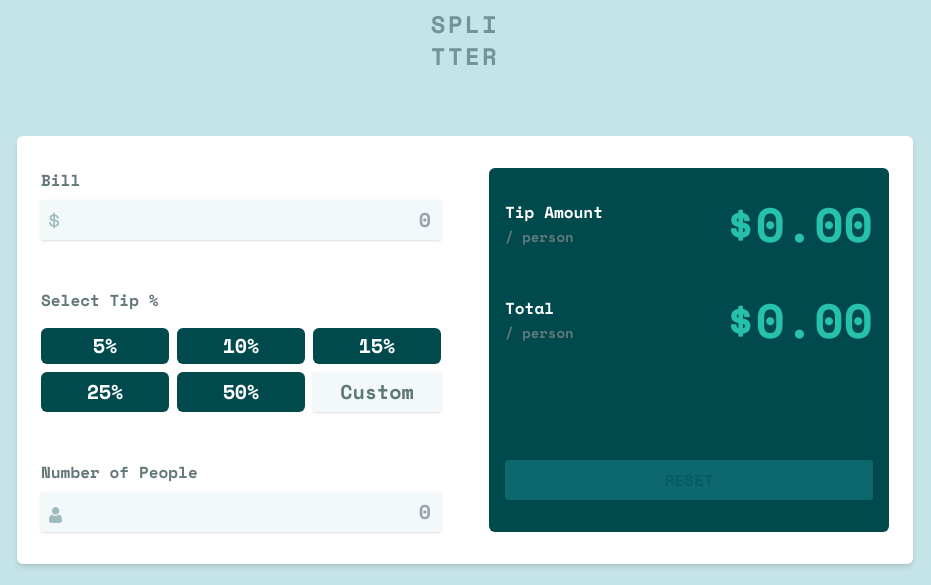
Test: Calculator › Create a new tip and reset the values
Expected: the button with test id "resetBtn" is disabled, x1=505 y1=460 x2=873 y2=500
Step 1. Type "142.55" into the number field with test id "bill" → [241, 220], box x1=41 y1=200 x2=441 y2=240
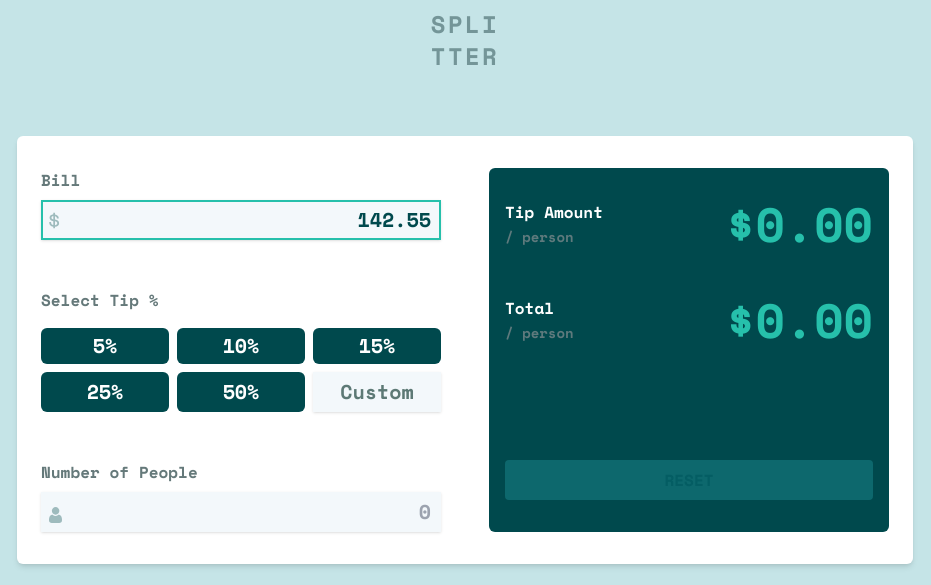
Step 2. Click the radio button with test id "15" → [377, 346], box x1=313 y1=328 x2=441 y2=364
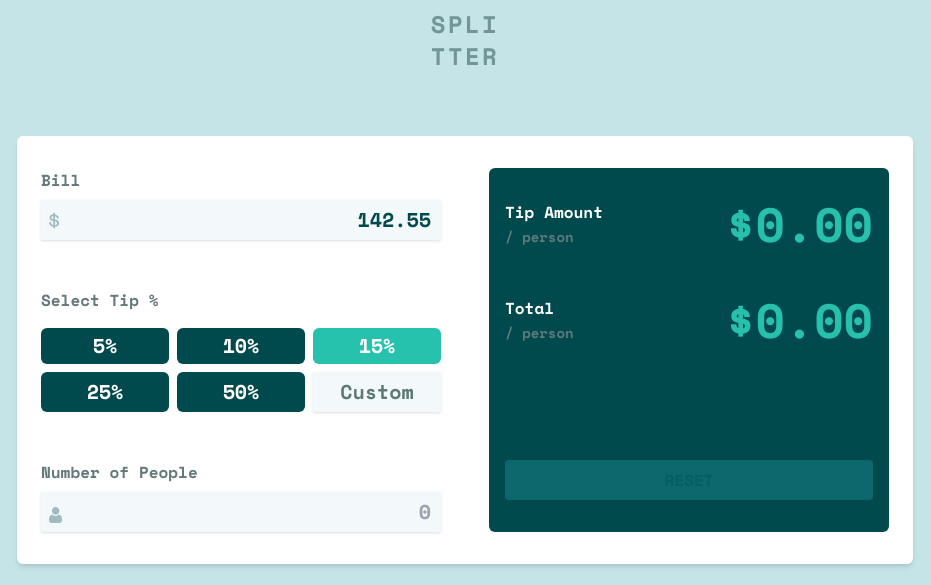
Step 3. Type "5" into the number field with test id "people" → [241, 512], box x1=41 y1=492 x2=441 y2=532
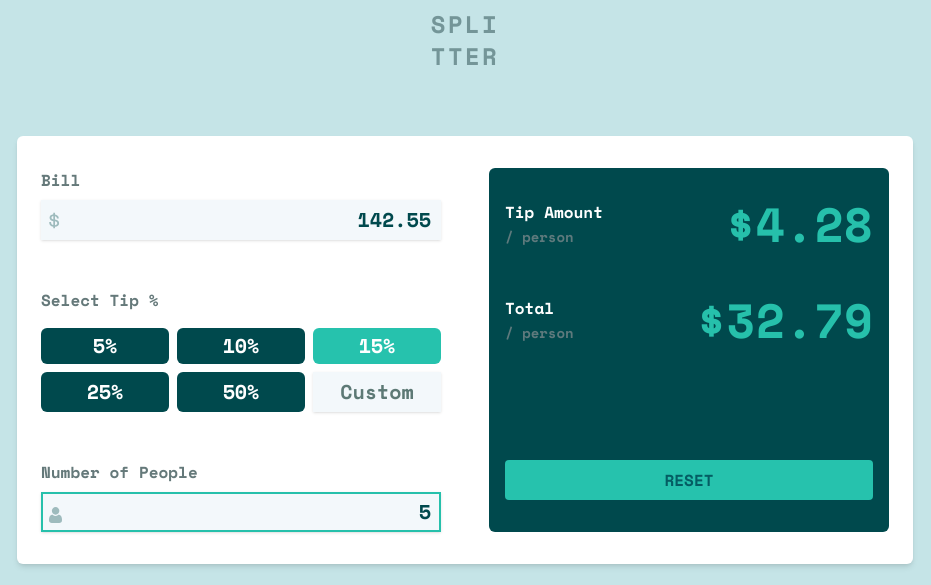
Expected: the text "$4.28" is shown, x1=726 y1=200 x2=873 y2=248
Expected: the text "$32.79" is shown, x1=697 y1=296 x2=873 y2=344
Step 4. Click the button with test id "resetBtn" → [689, 480], box x1=505 y1=460 x2=873 y2=500
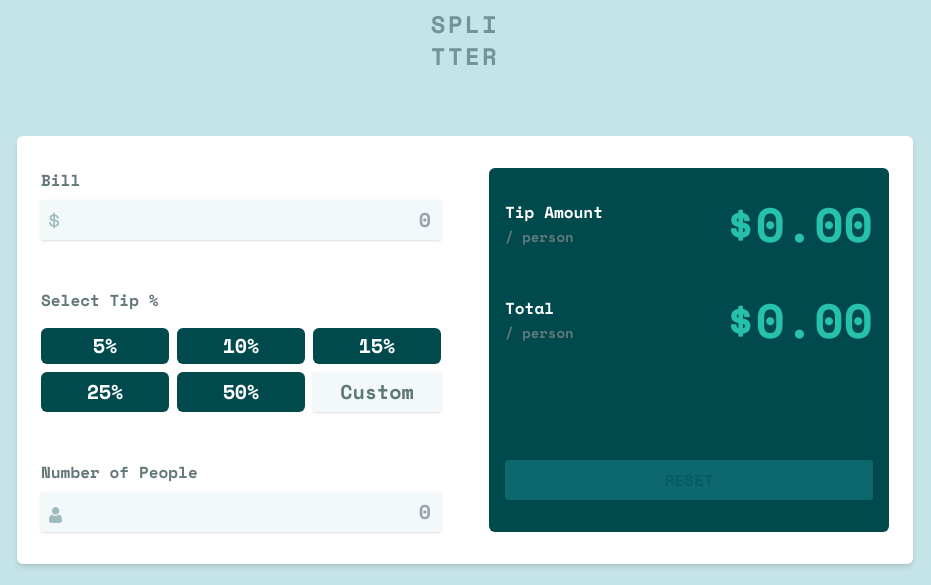
Now the button with test id "resetBtn" is disabled, box x1=505 y1=460 x2=873 y2=500
